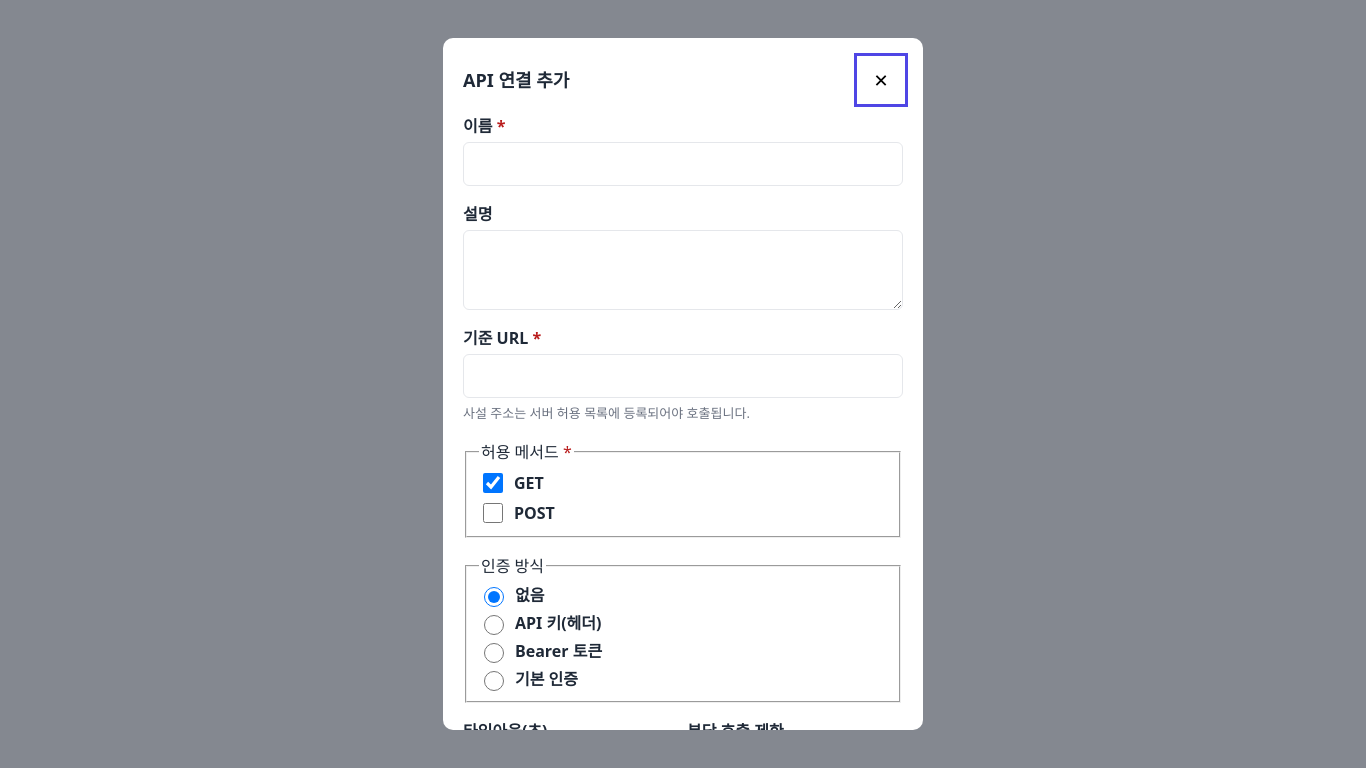
Test: ApiConnectionEditModal › EGRESS_HOST_NOT_ALLOWED 오류를 받으면 baseUrl 필드 아래 인라인 오류로 표시하고 모달이 유지된다
The image size is (1366, 768).
Type "ERP 주문" into the field labelled "이름 *" at (683,164), box [463,142,903,186]
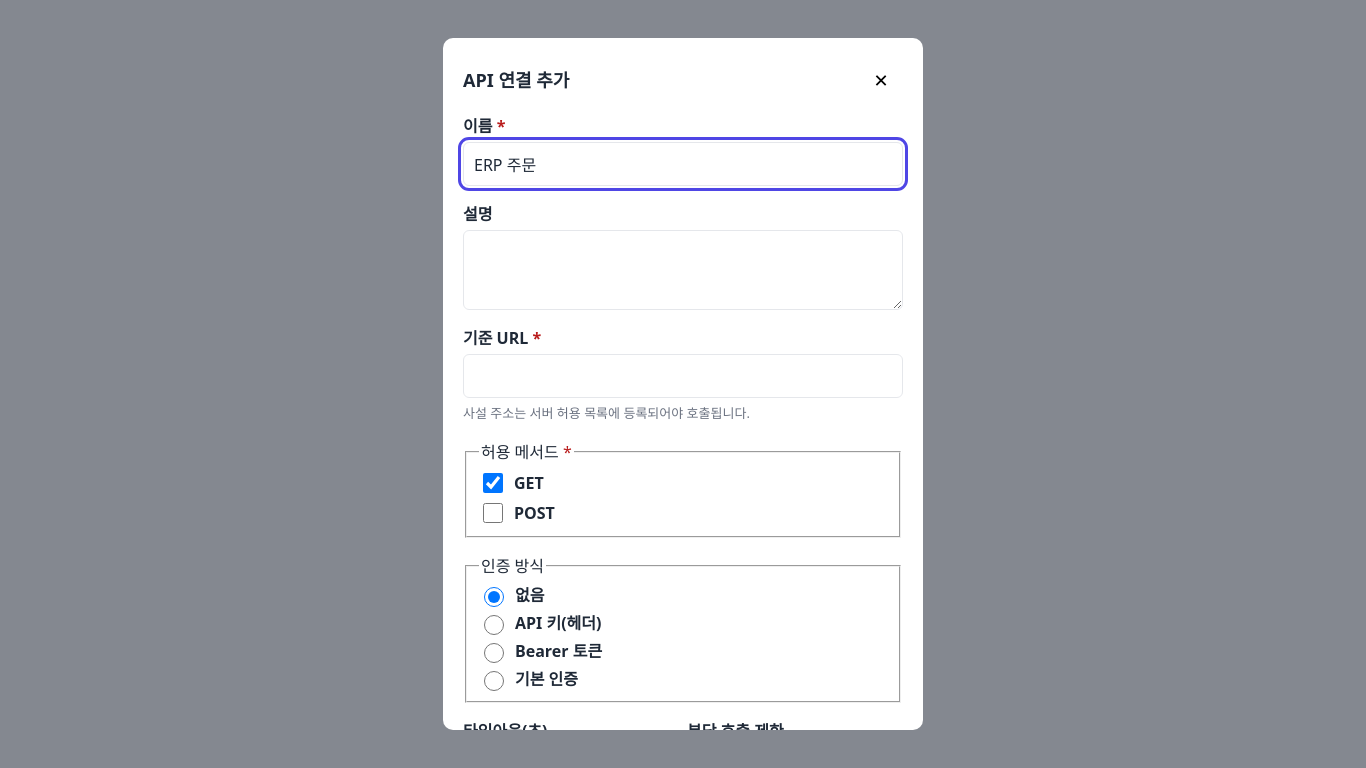
Type "https://not-allowed.example.com/api" into the field labelled "기준 URL *" at (683,376), box [463,354,903,398]
(page scrolled)
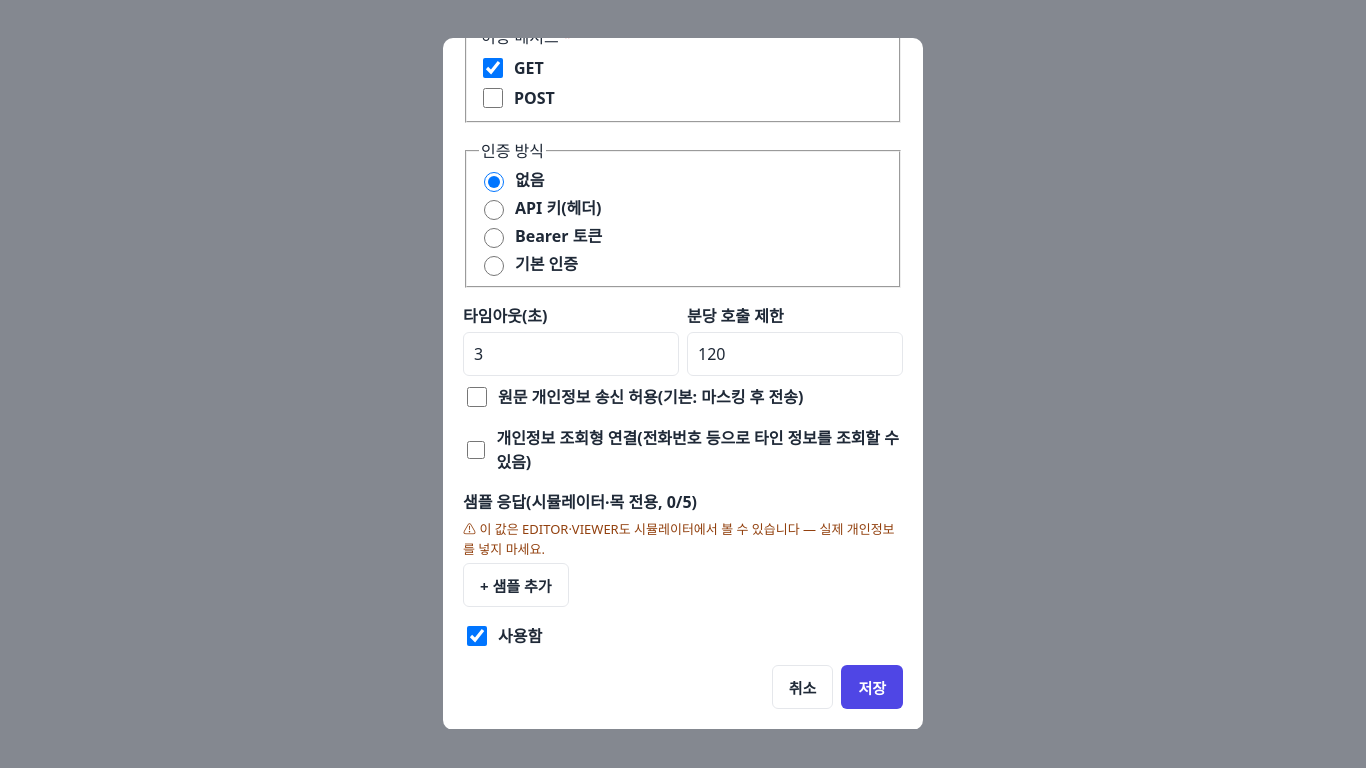
Click the button "저장" at (872,687), box [841,665,903,709]
(page scrolled)
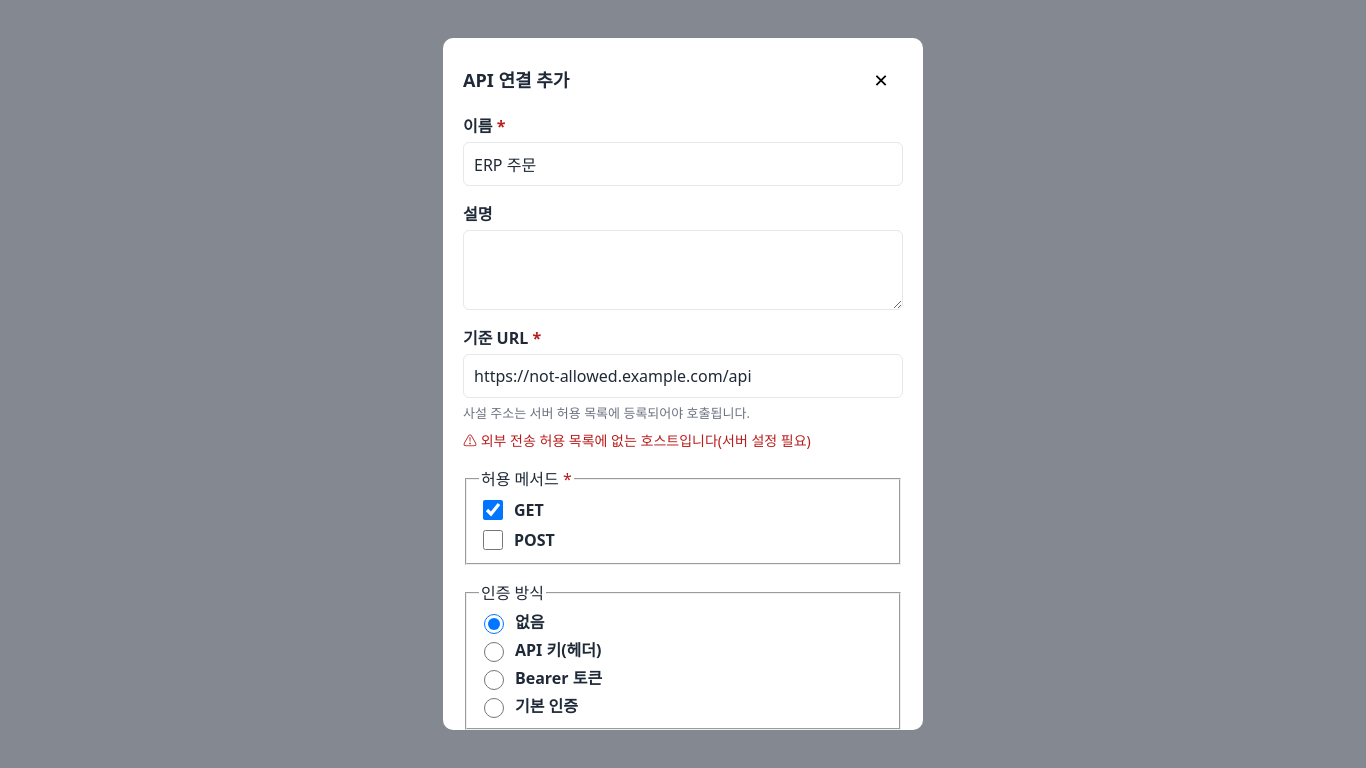
Check: the text "외부 전송 허용 목록에 없는 호스트입니다(서버 설정 필요)" is shown, box [481,431,811,450]
